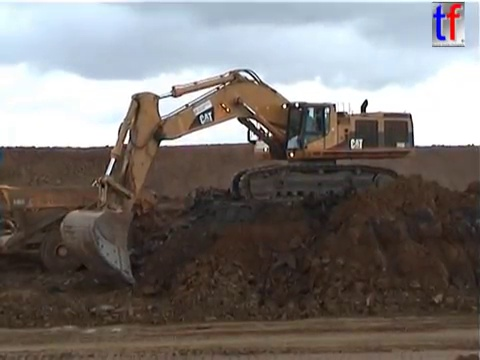excavator: (57, 65, 417, 288)
truck: (1, 182, 158, 276)
worker: (89, 175, 102, 198)
